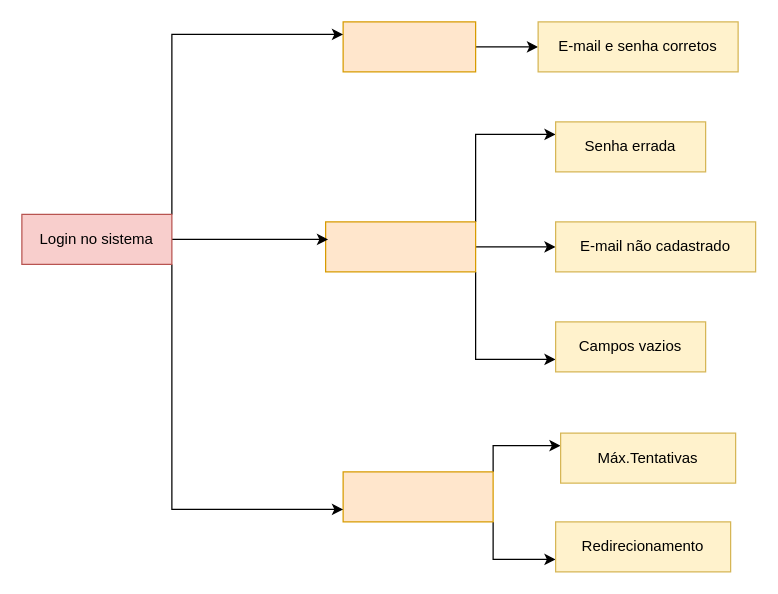
Image size: 778x594. Some labels were removed from this diagram. The shapes that lost their labels are listed below. From the top down, each one's box as (x1, y1, x2, y2) in pixels, then its label:
(342, 21, 476, 72): Cenários válidos
(324, 221, 476, 272): Cenários inválidos
(342, 471, 493, 522): Regras
